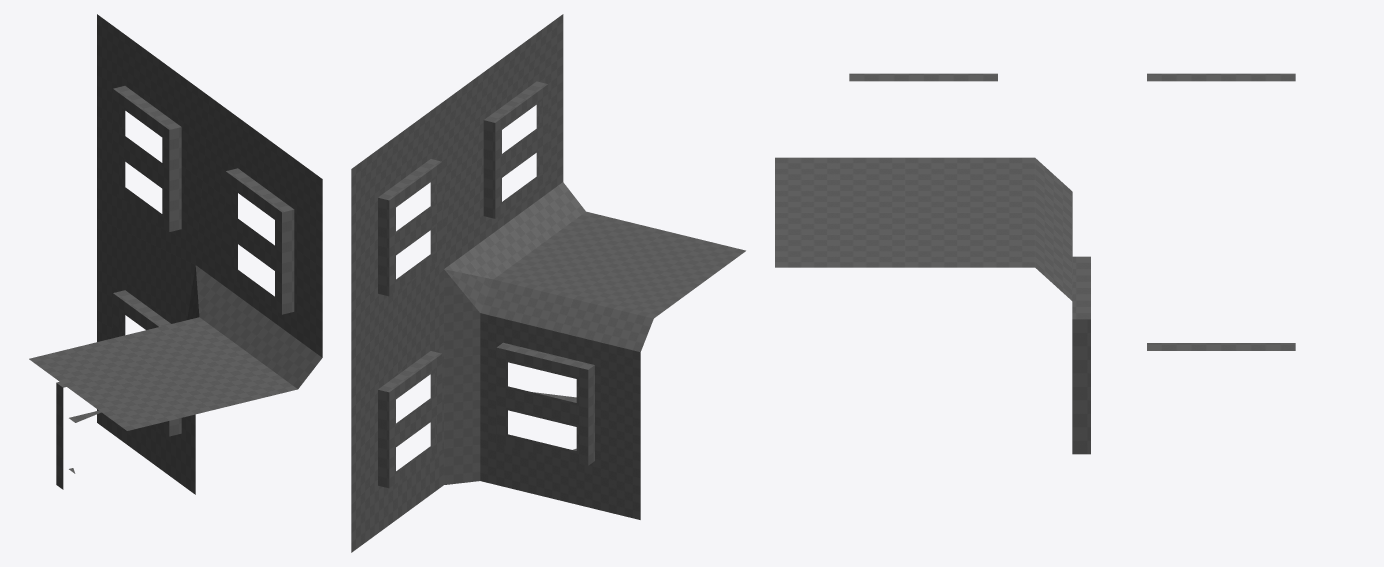
The picture shows the model from 3 angles, left to right: view 1: azimuth 30°, elevation 25°; view 2: azimuth 150°, elevation 25°; view 3: azimuth 270°, elevation 25°; orthographic projection. The views are drawn at different scales.
Visible parts, largest first — view 1: CubeUpBackLeft2V4; view 2: CubeUpBackLeft2V4; view 3: CubeUpBackLeft2V4.
Boxes of the visible parts, <box> form: CubeUpBackLeft2V4: <box>29,14,322,494</box>; CubeUpBackLeft2V4: <box>351,14,745,552</box>; CubeUpBackLeft2V4: <box>775,73,1295,454</box>.
Bounding box in the file's own units: 2 × 4 × 4.
Materials: 1 (1 with a texture image).
